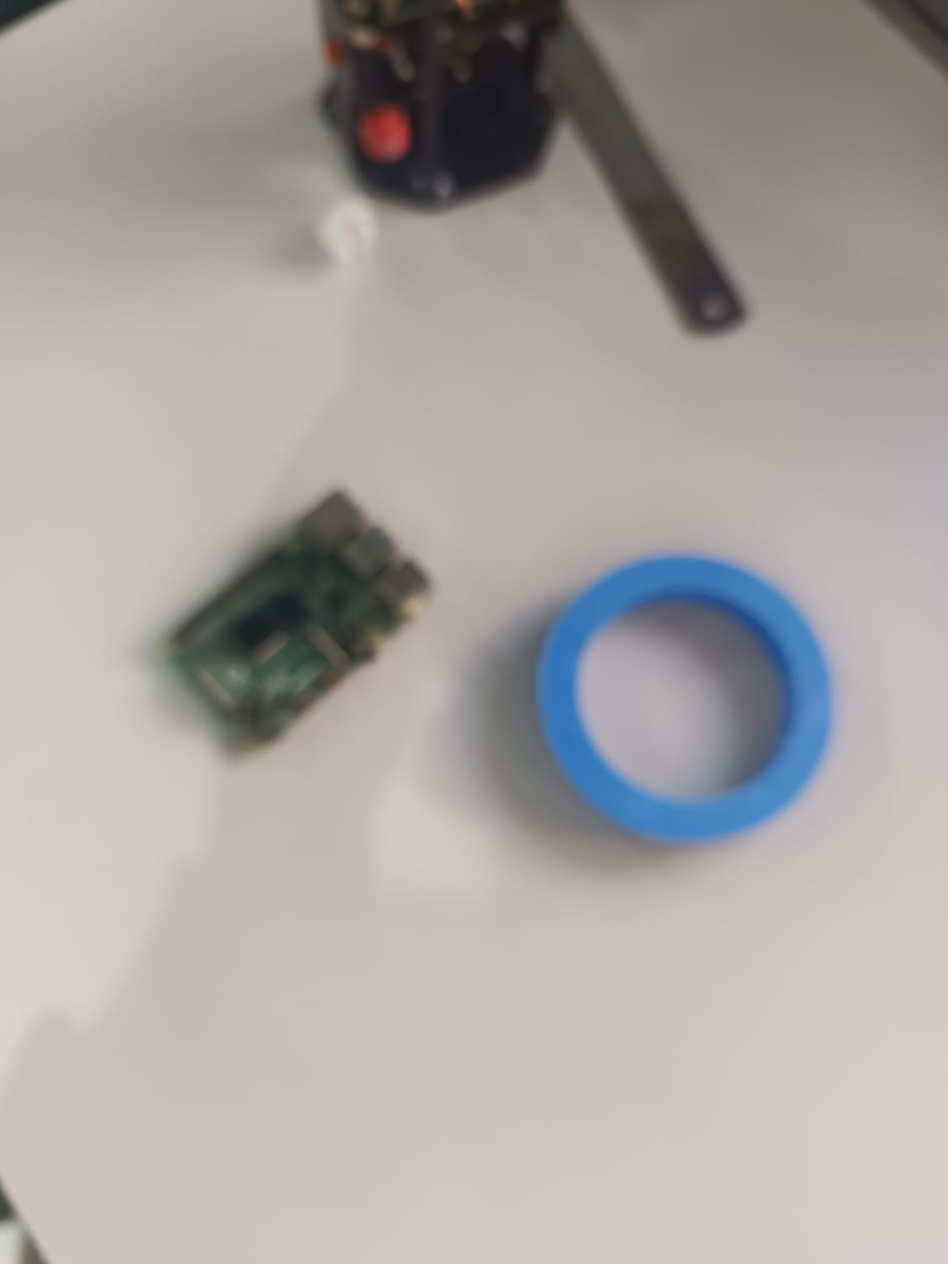Circle: (526, 546, 850, 852)
